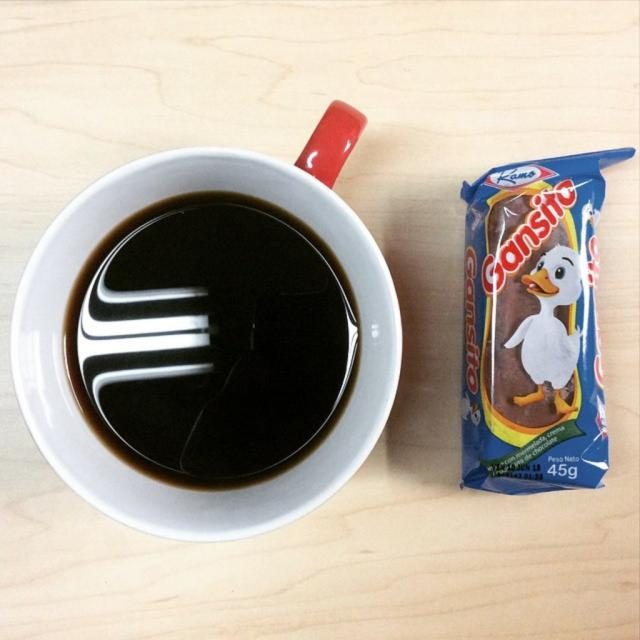Coffee: (41, 144, 415, 509)
Tea: (68, 196, 360, 490)
